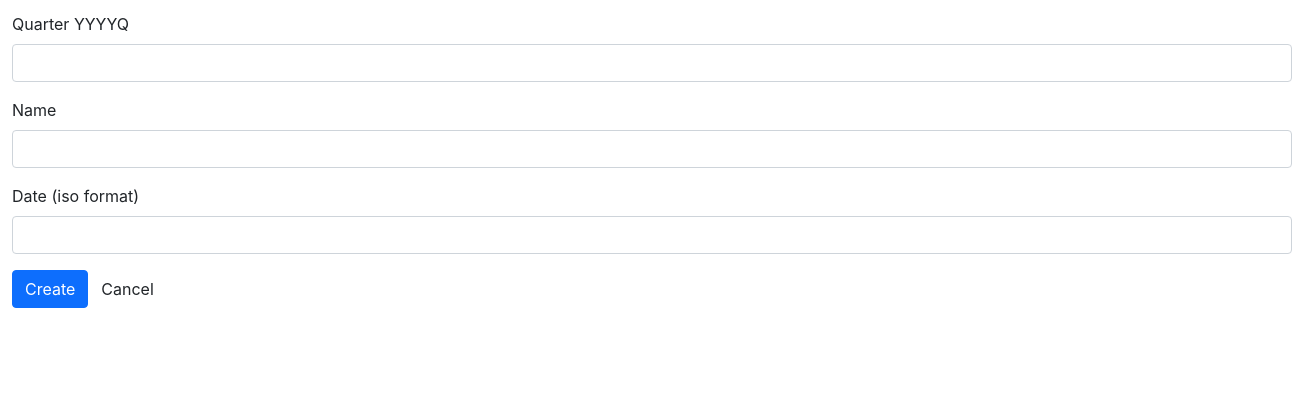
Test: UCSBDateForm tests › Correct Error messsages on missing input
This screenshot has width=1304, height=400.
Click the button with test id "UCSBDateForm-submit".
click(50, 289)  # box [12,270,88,308]
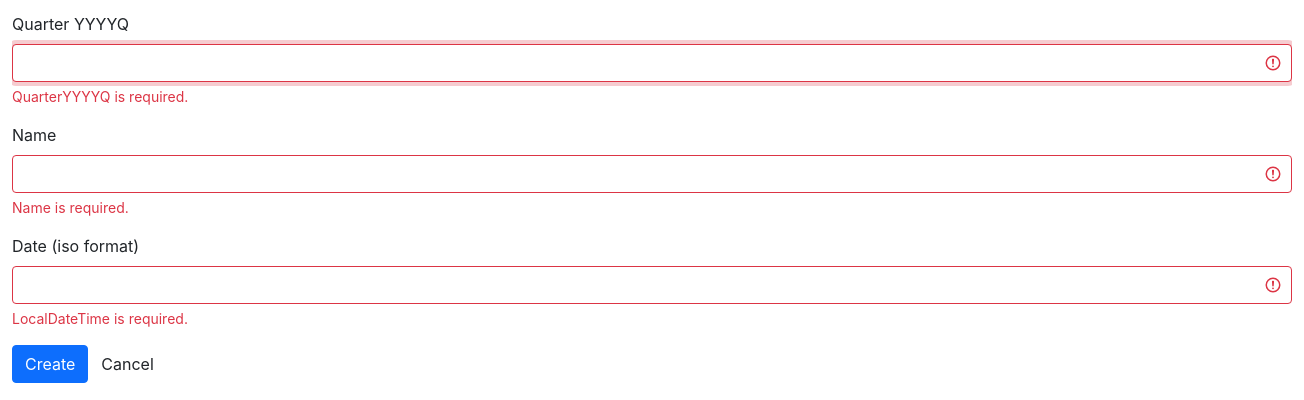
Expected: the text "QuarterYYYYQ is required." is shown, [12,88,188,105]
Expected: the text "Name is required." is shown, [12,199,129,216]
Expected: the text "LocalDateTime is required." is shown, [12,310,188,327]
